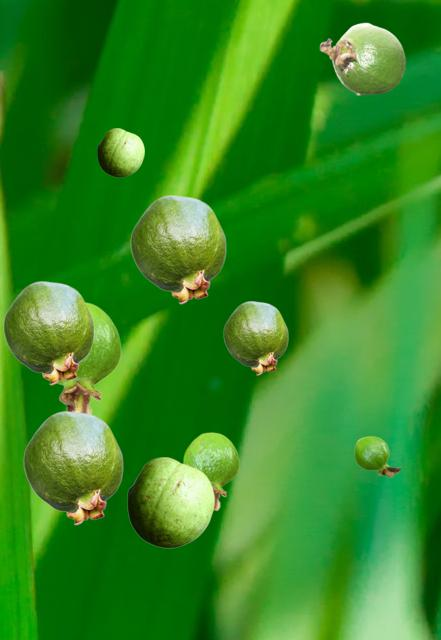guava: (23, 411, 122, 524), (130, 195, 225, 303), (3, 281, 93, 384), (127, 457, 213, 547), (57, 302, 120, 413), (319, 22, 405, 94), (223, 301, 287, 374), (183, 432, 238, 510), (97, 128, 143, 176), (354, 436, 400, 476)
